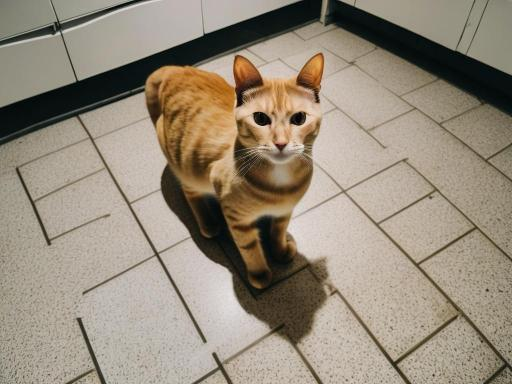cat_standing: (146, 53, 324, 288)
